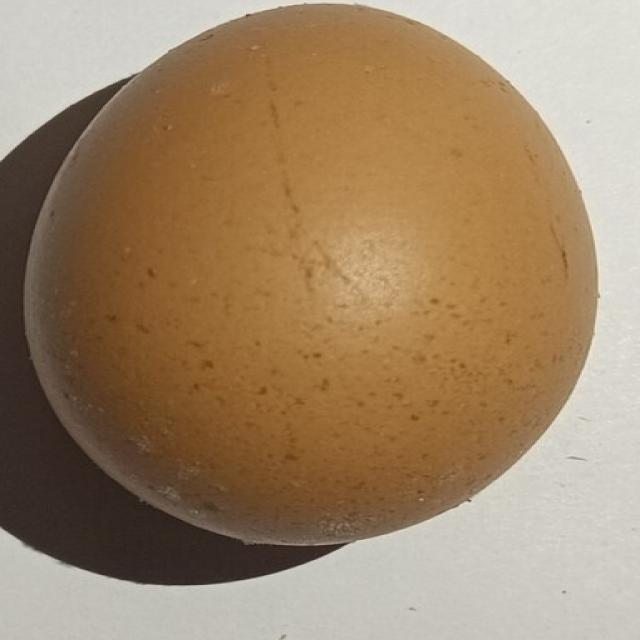unfresh: (12, 0, 620, 571)
